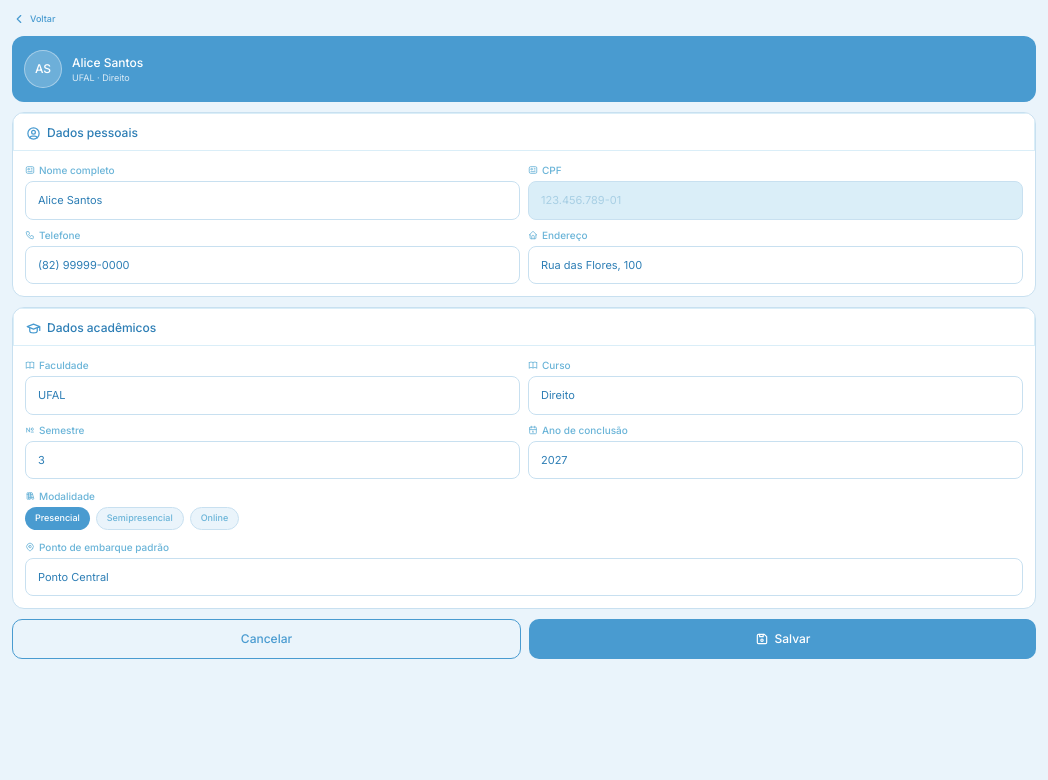
Test: EdicaoAlunoPage — ponto de embarque › banner de aviso desaparece ao restaurar o ponto original
Replace the text in the field showing "Ponto Central" below "Ponto de embarque padrão" with "Ponto Norte": (524,577) [25,558,1023,596]
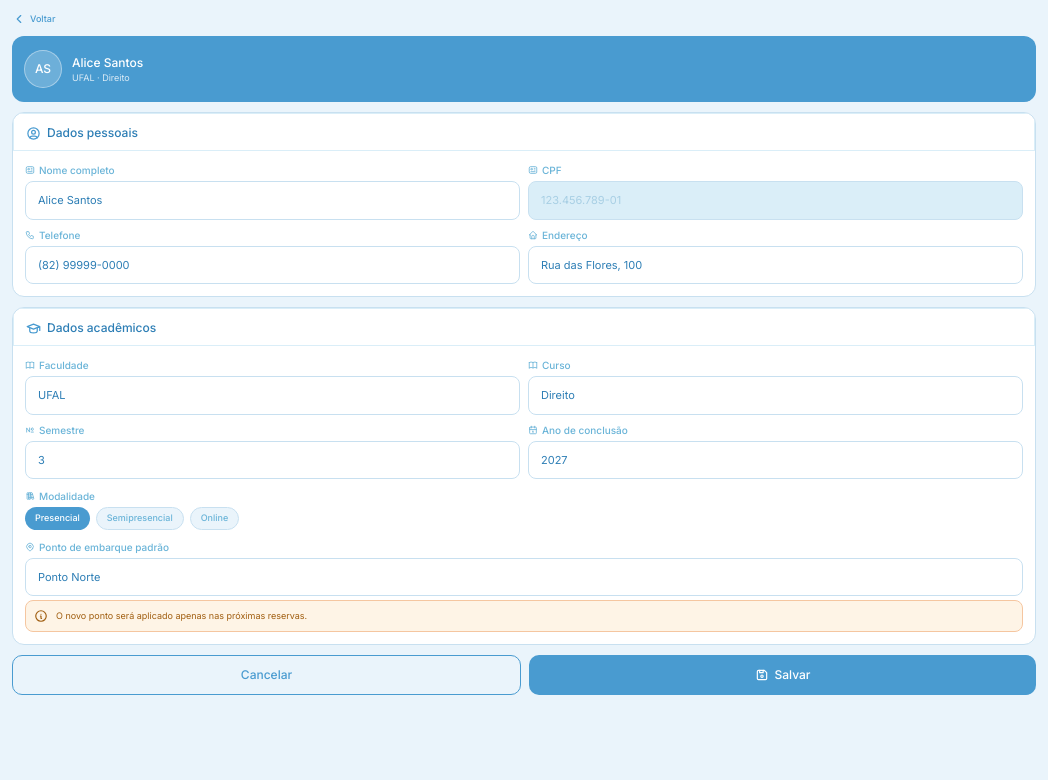
Replace the text in the field showing "Ponto Central" below "Ponto de embarque padrão" with "Ponto Central": (524,577) [25,558,1023,596]
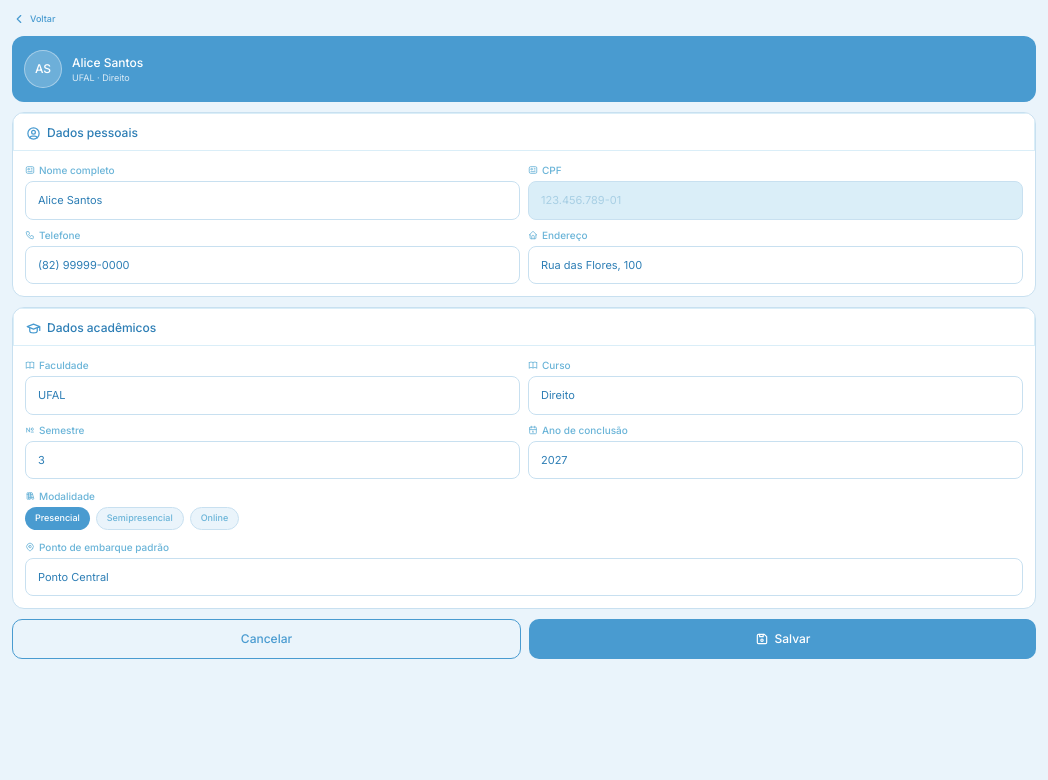
Now the text "próximas reservas" is gone
